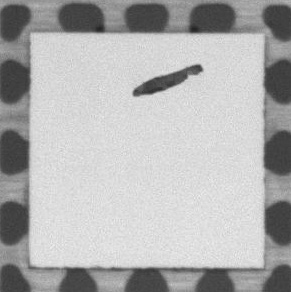DIE_INK: (131, 64, 203, 97)
